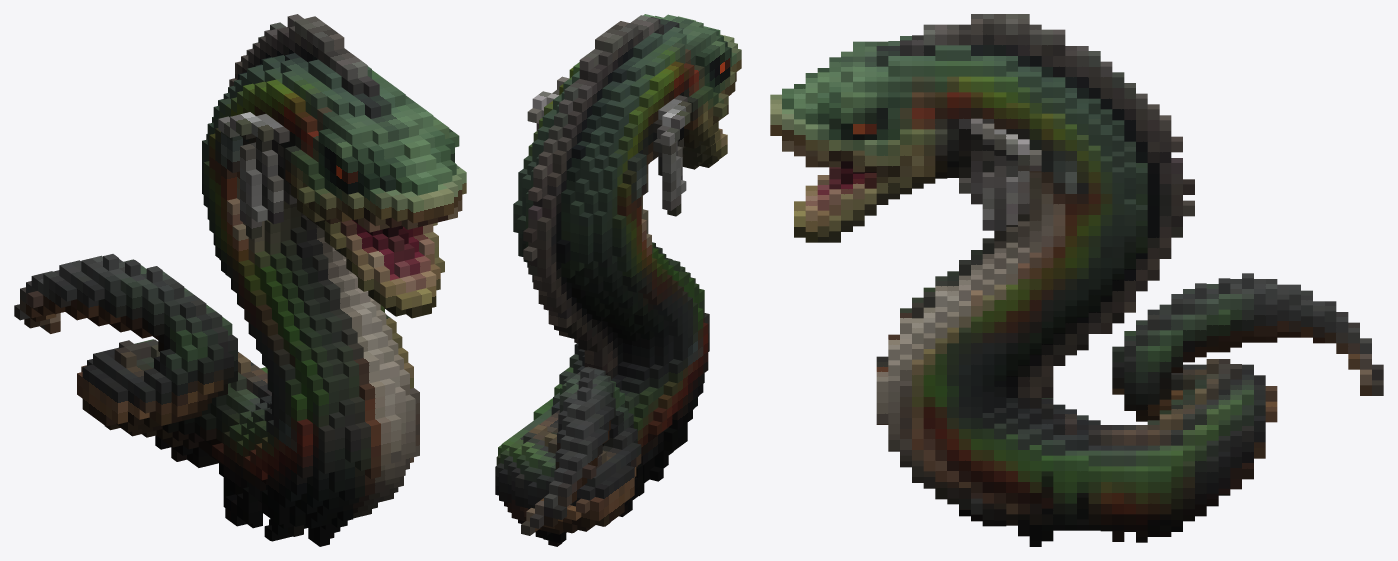
The model's file is u_anguille.glb.
3 views of the same model, side by side, from view 1: azimuth 30°, elevation 25°; view 2: azimuth 150°, elevation 25°; view 3: azimuth 270°, elevation 25° (orthographic). The views are drawn at different scales.
Visible parts, largest first — view 1: anguille_body; view 2: anguille_body; view 3: anguille_body.
Boxes of the visible parts, left/top/right/bottom form: anguille_body: left=14, top=14, right=466, bottom=546; anguille_body: left=495, top=14, right=741, bottom=546; anguille_body: left=770, top=14, right=1383, bottom=546.
Size of the model in its own units: 0.2516 by 0.587 by 0.6229.
Materials: 1 (1 with a texture image).
